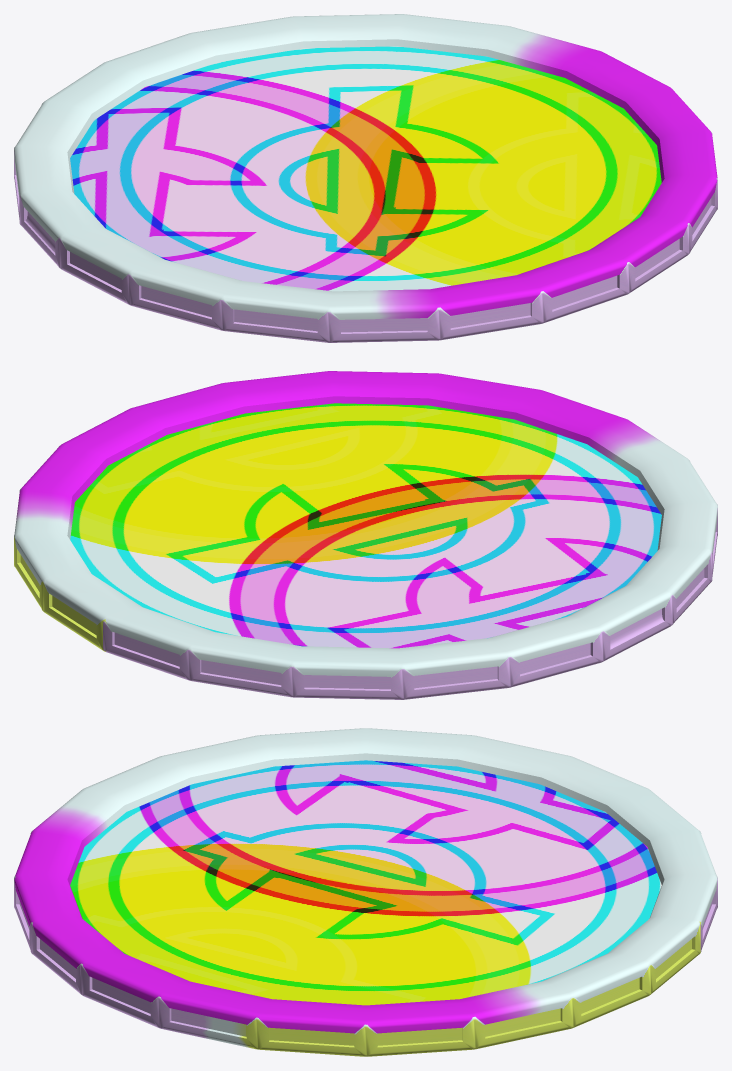
File: Coin_Model.FBX
The picture shows the model from 3 angles, top to bottom: view 1: azimuth 30°, elevation 25°; view 2: azimuth 150°, elevation 25°; view 3: azimuth 270°, elevation 25°; orthographic projection.
Visible parts, largest first — view 1: Cylinder001; view 2: Cylinder001; view 3: Cylinder001.
Boxes of the visible parts, x1,y1,x2,y2 form: Cylinder001: (14,14,717,342); Cylinder001: (14,371,717,699); Cylinder001: (14,728,717,1056).
Size of the model in its own units: 1.77 by 0.0984 by 1.77.
